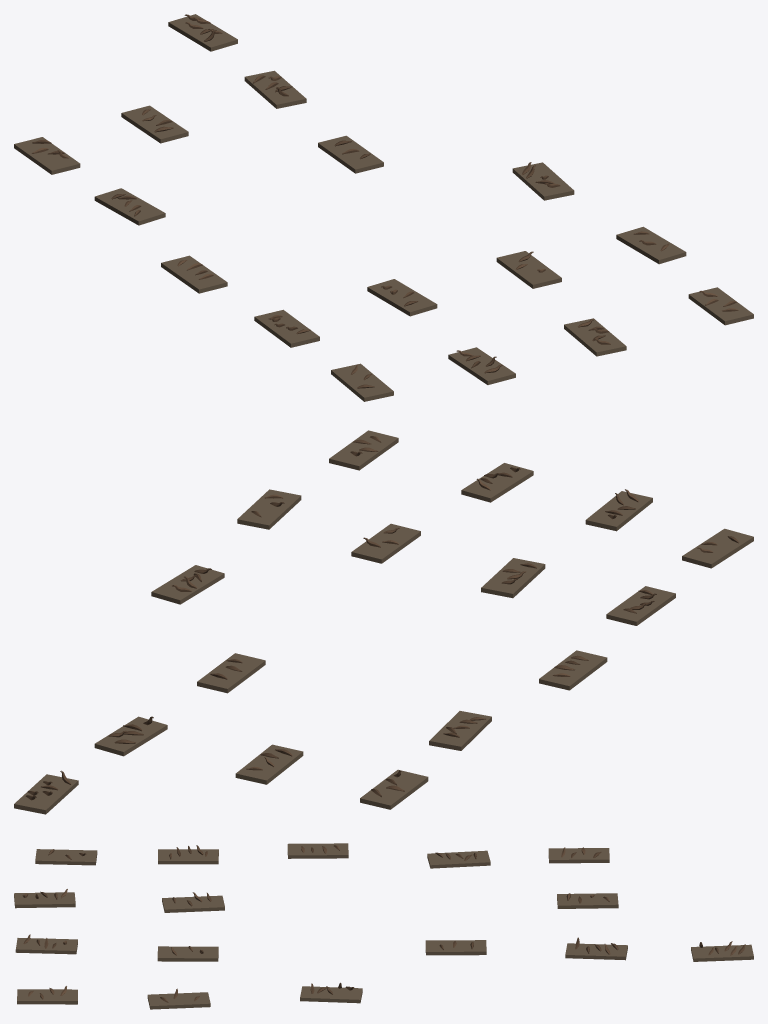
File: seaLions_lod1.glb
3 views of the same model, one above another, from view 1: azimuth 30°, elevation 25°; view 2: azimuth 150°, elevation 25°; view 3: azimuth 270°, elevation 25° (orthographic). The views are drawn at different scales.
Visible parts, largest first — view 1: L1_wood, L1_paint; view 2: L1_wood, L1_paint; view 3: L1_wood, L1_paint.
Part boxes in pixels (bbox=[...]): L1_wood: bbox=[14, 14, 753, 401]; L1_paint: bbox=[32, 14, 738, 388]; L1_wood: bbox=[14, 430, 753, 814]; L1_paint: bbox=[25, 436, 738, 800]; L1_wood: bbox=[14, 843, 753, 1009]; L1_paint: bbox=[22, 845, 745, 1002].
Size of the model in its own units: 53.28 by 1.92 by 102.
